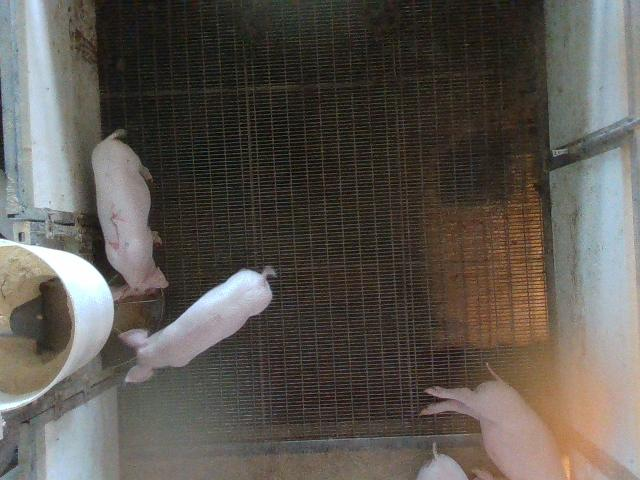pig-5: (91, 129, 168, 301)
